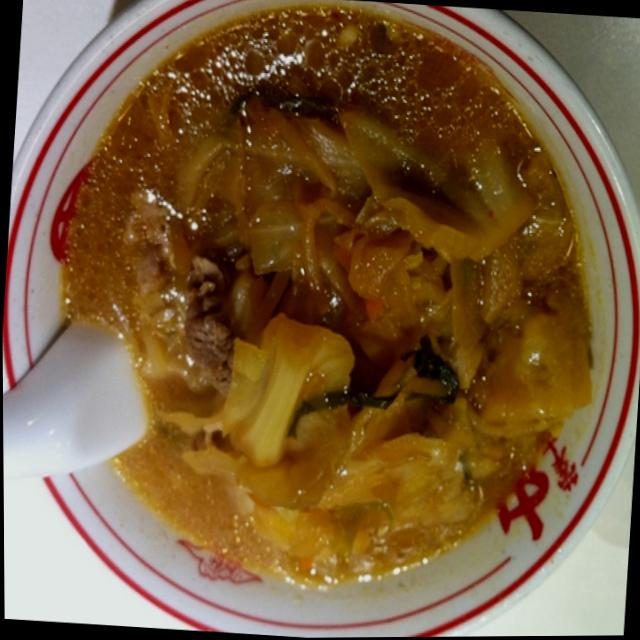面条主食: (32, 0, 619, 596)
